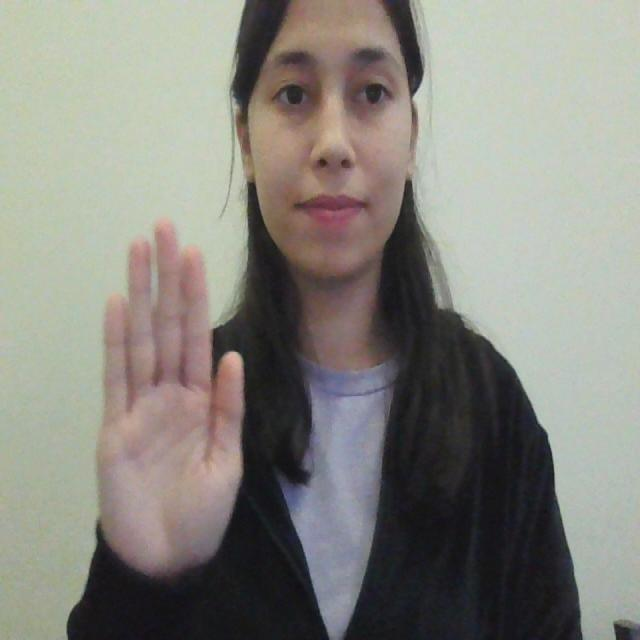Dur: (91, 204, 262, 592)
